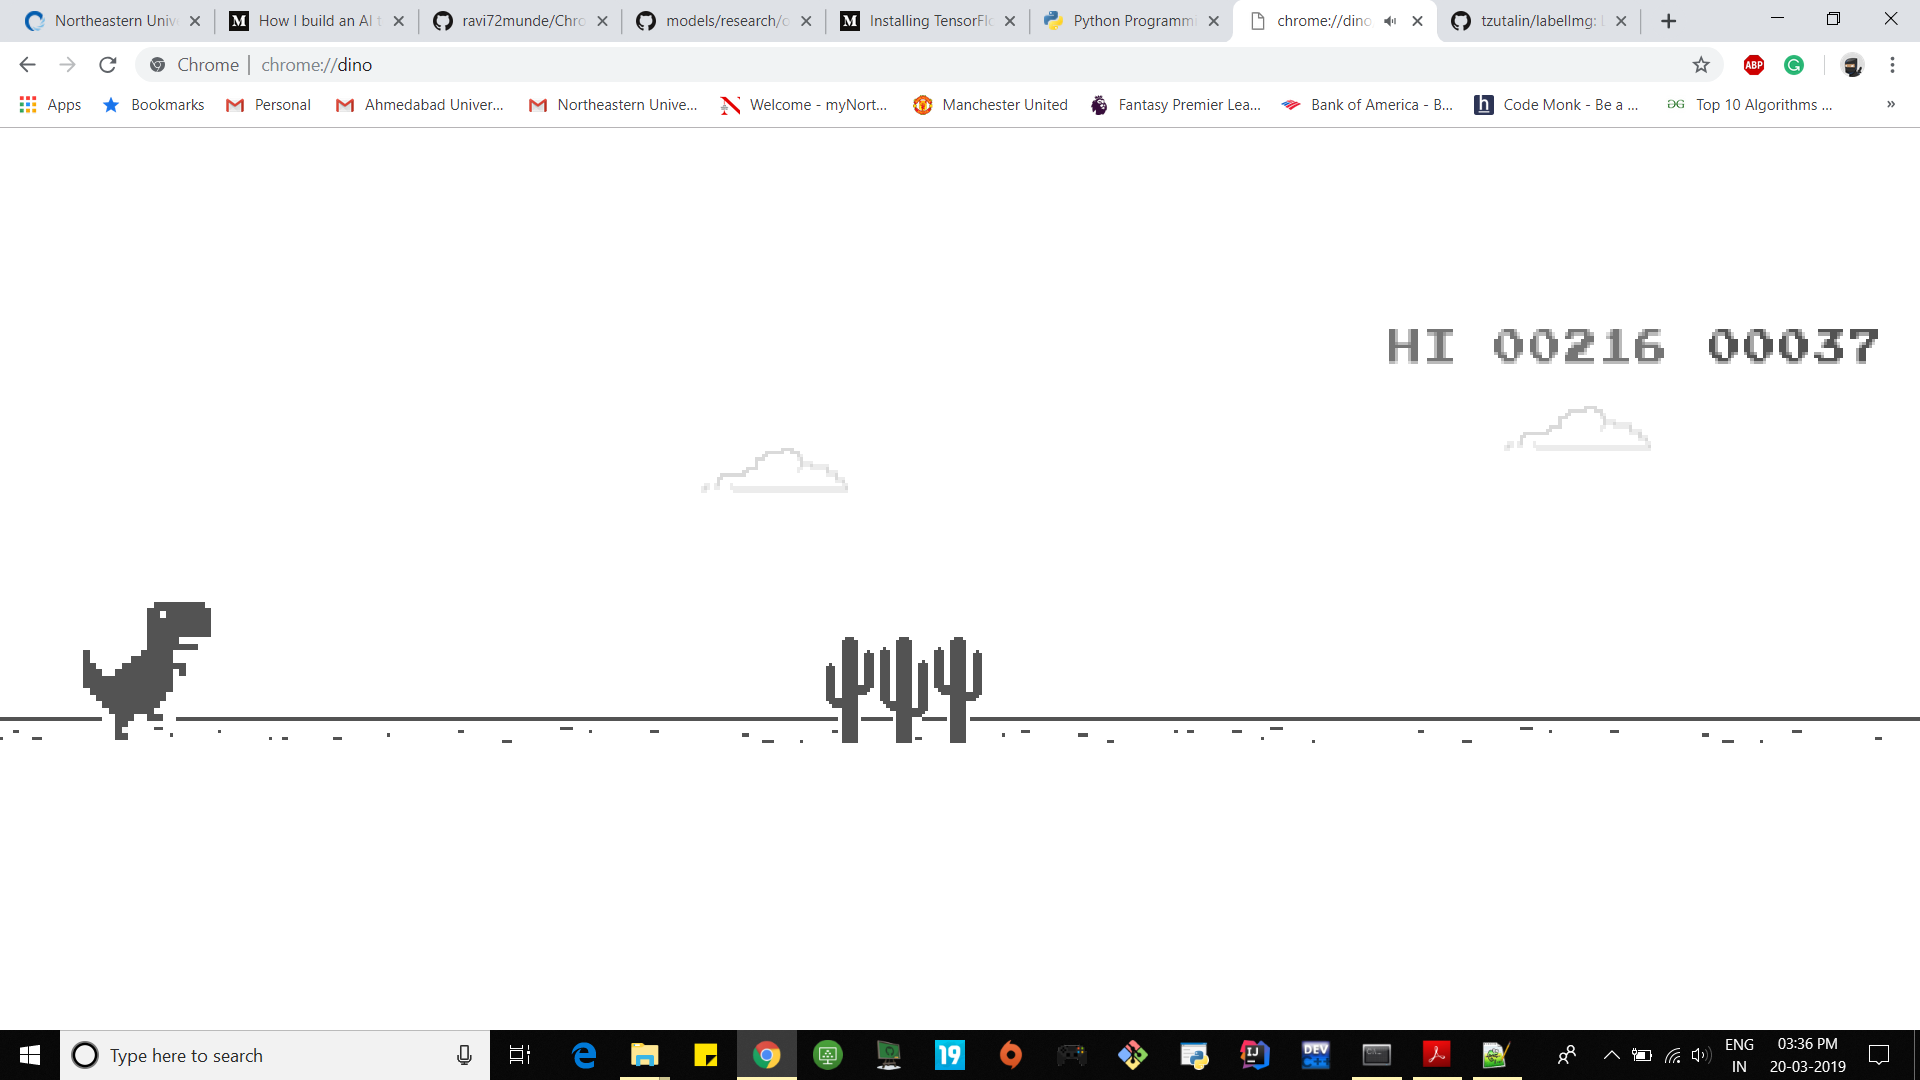cactus-3: (824, 636, 984, 745)
dino: (82, 600, 210, 741)
